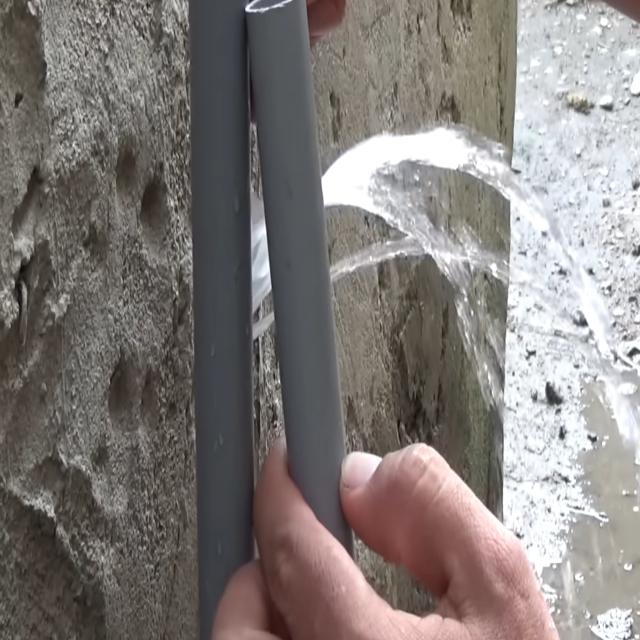leak: (322, 127, 612, 419)
